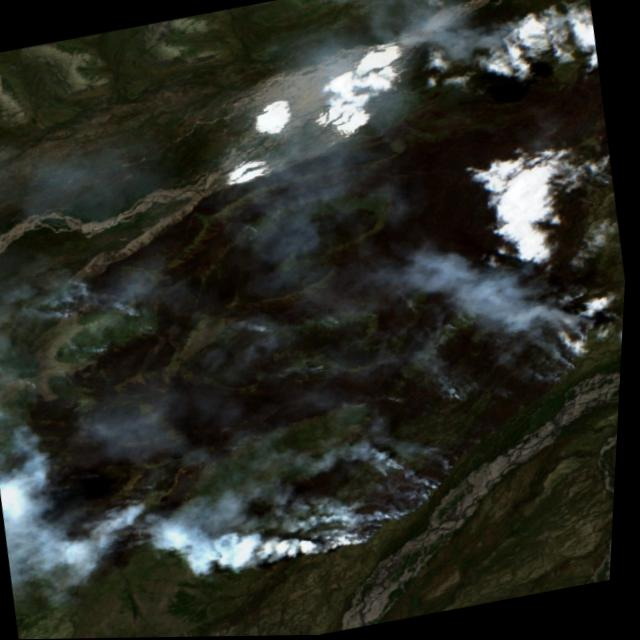fire: (0, 9, 639, 622)
